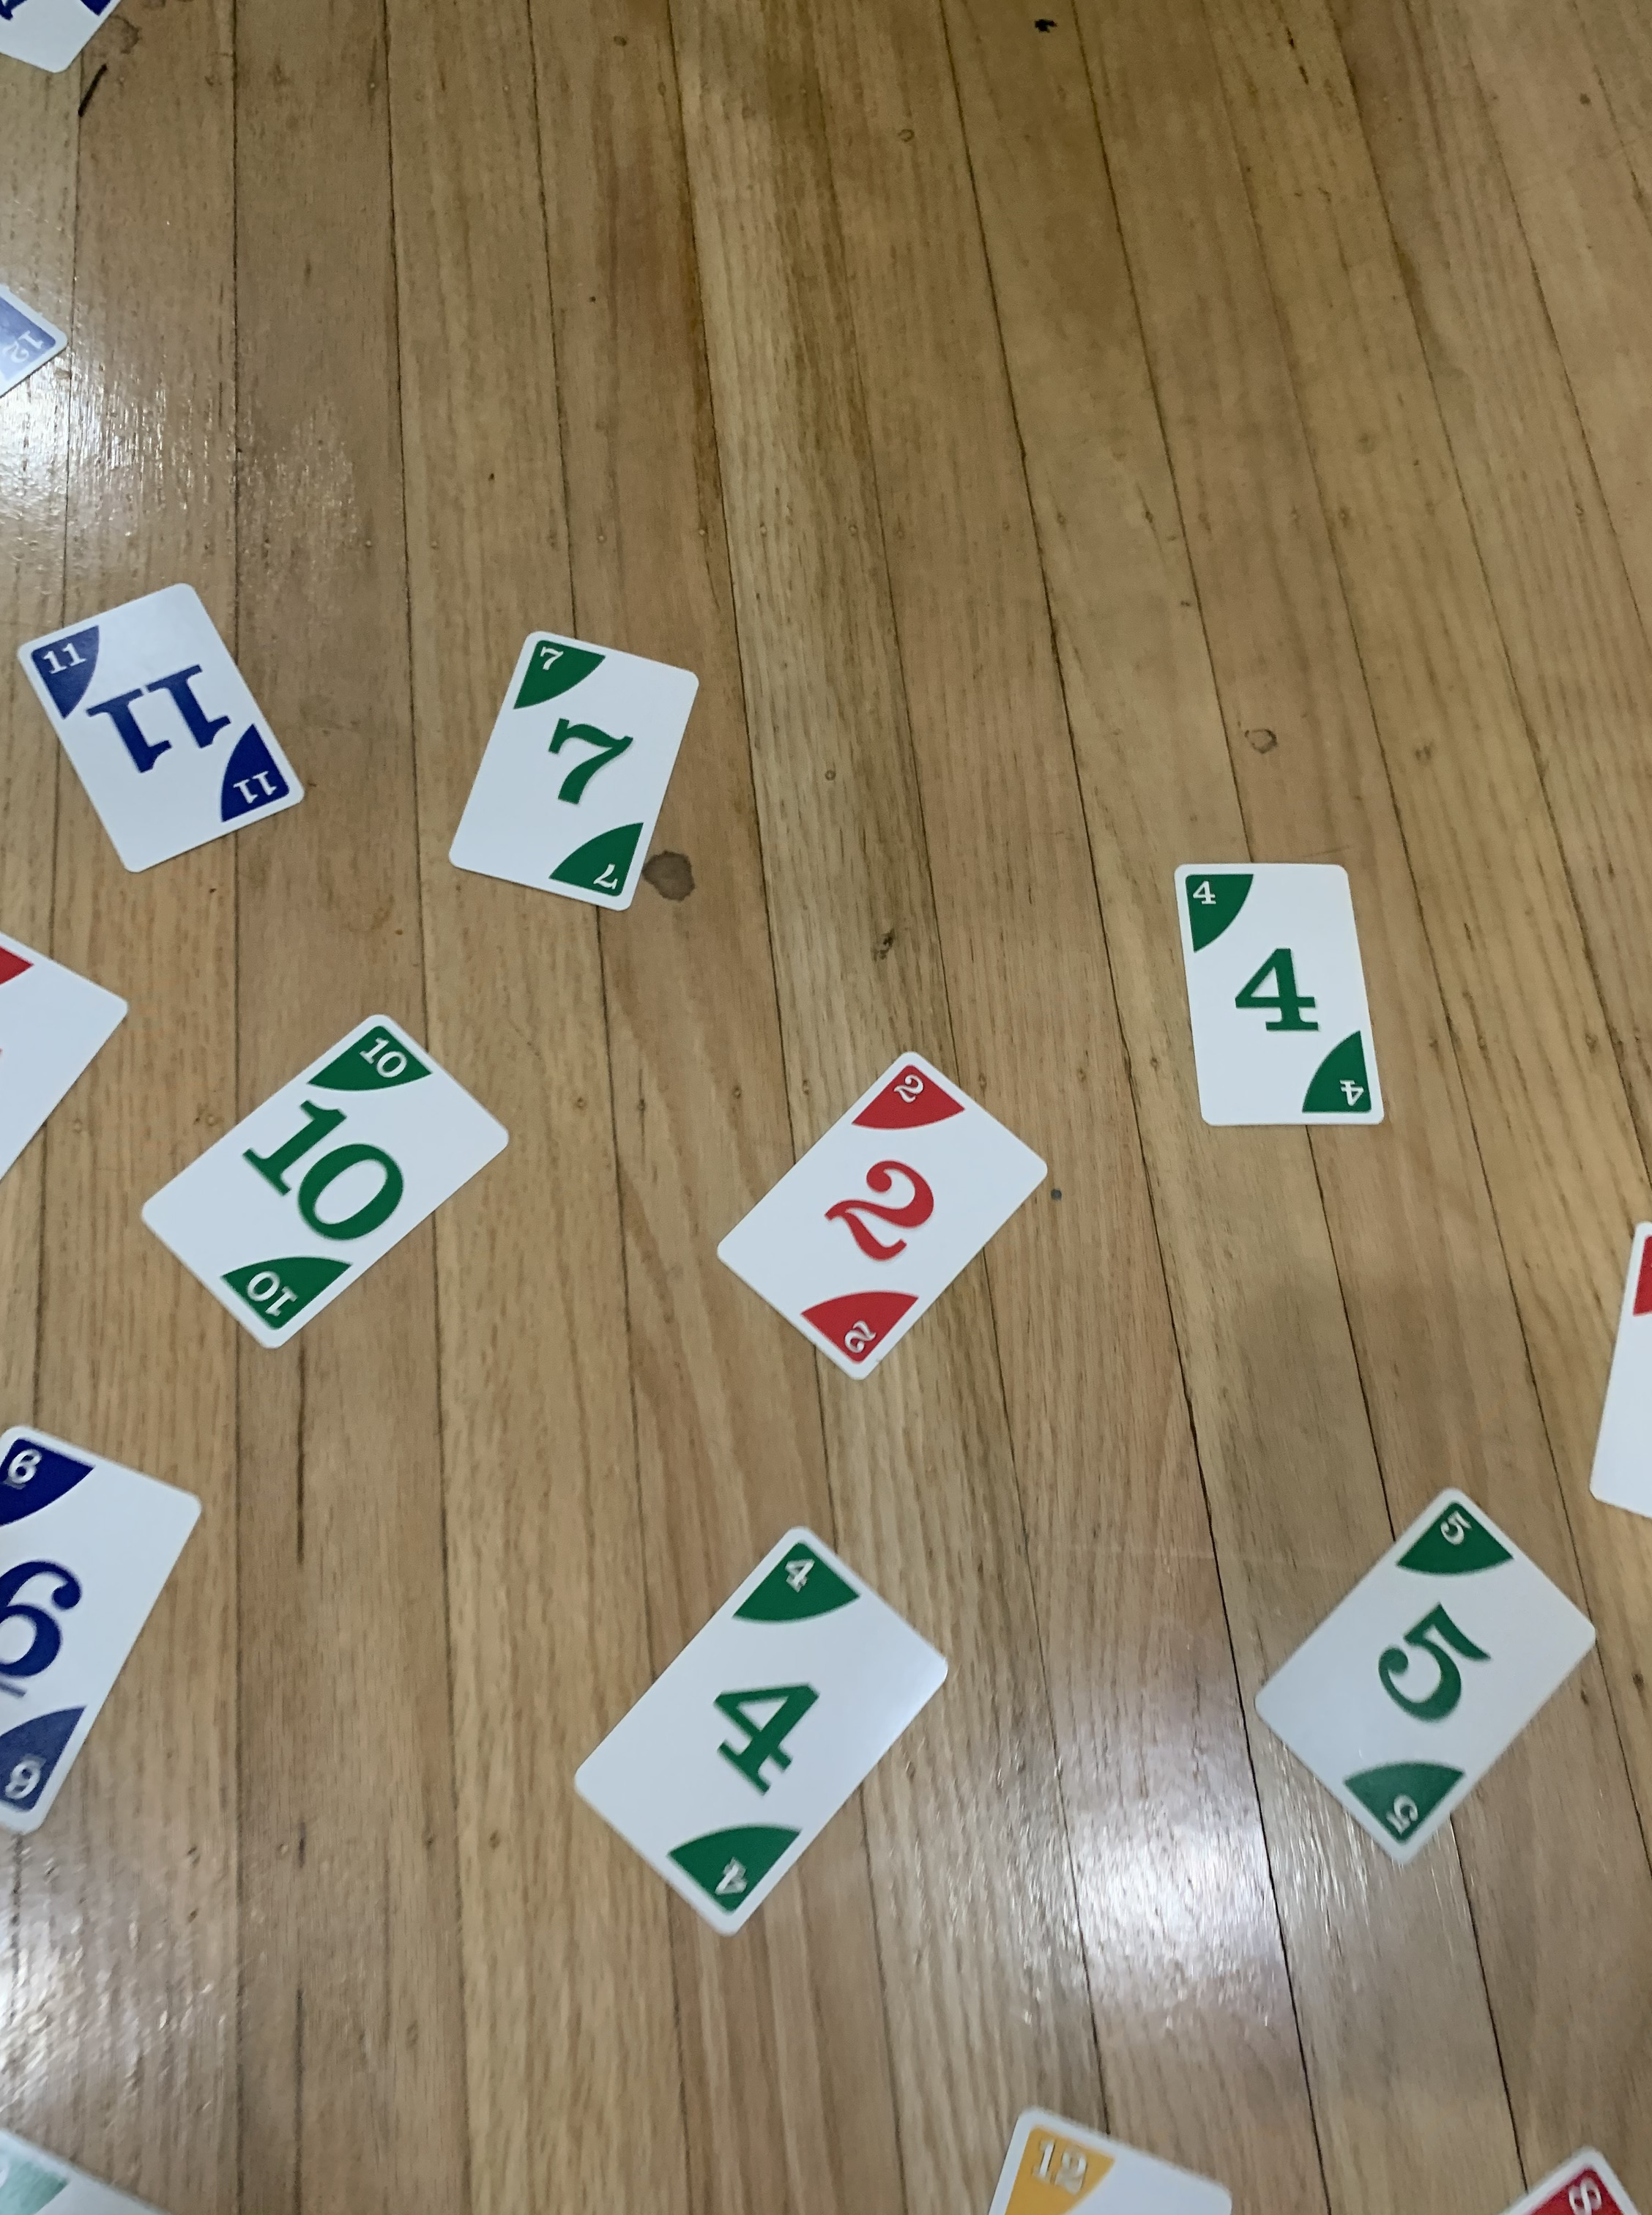eleven: (7, 575, 312, 885)
five: (1244, 1482, 1605, 1877)
four: (562, 1521, 954, 1936), (1170, 859, 1392, 1134)
seven: (437, 621, 708, 918)
ten: (132, 1005, 521, 1363)
two: (705, 1038, 1055, 1389)
